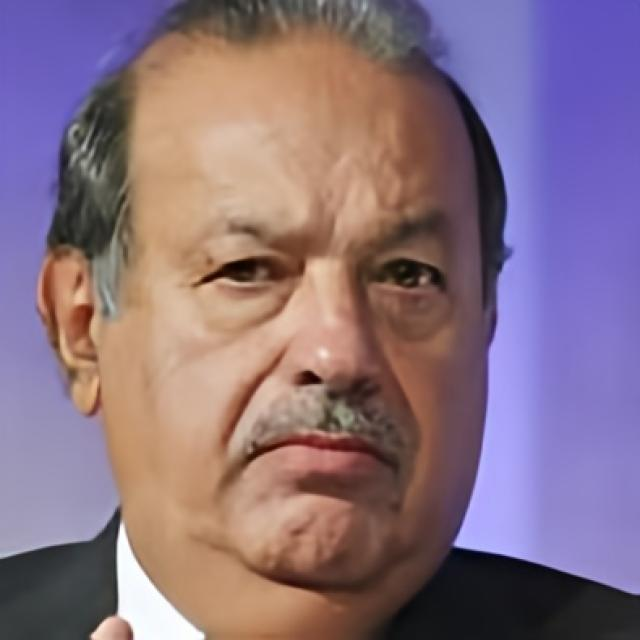anger: (107, 52, 484, 598)
